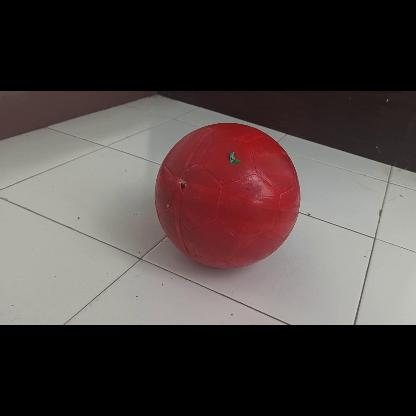red_ball: (156, 122, 304, 270)
